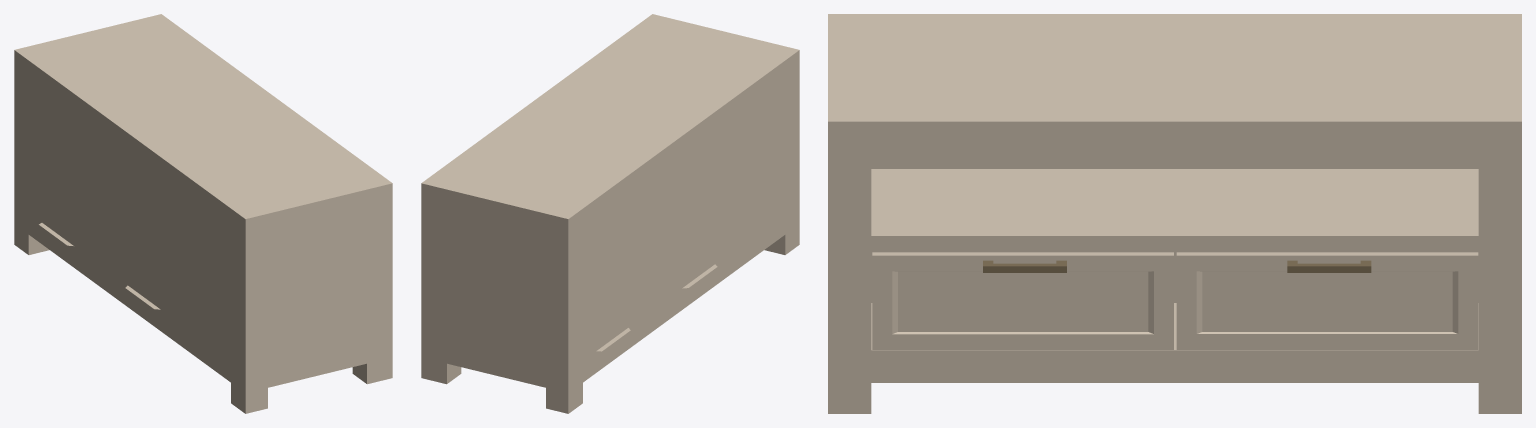
Rendered from tv_stand_empty.fbx.
3 renders of one model, left to right at view 1: azimuth 30°, elevation 25°; view 2: azimuth 150°, elevation 25°; view 3: azimuth 270°, elevation 25°, orthographic. The views are drawn at different scales.
Visible parts, largest first — view 1: tv_stand_empty; view 2: tv_stand_empty; view 3: tv_stand_empty.
Boxes of the visible parts, left/top/right/bottom form: tv_stand_empty: left=14, top=14, right=392, bottom=413; tv_stand_empty: left=421, top=14, right=799, bottom=413; tv_stand_empty: left=828, top=14, right=1521, bottom=413.
Size of the model in its own units: 3.66 by 4.21 by 9.07.
